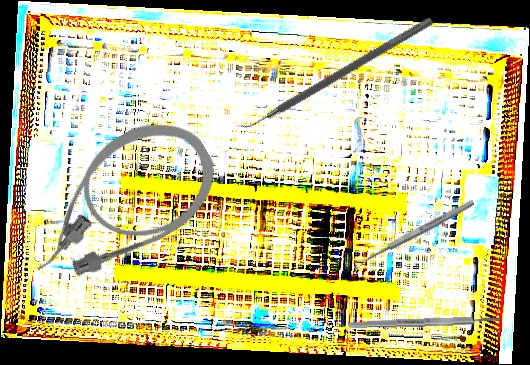Cannula: (0, 101, 234, 302)
Scalpel Handle: (347, 314, 502, 330)
Spatula Surgical: (233, 7, 434, 140)
Surgical Spoon: (351, 198, 476, 270)
